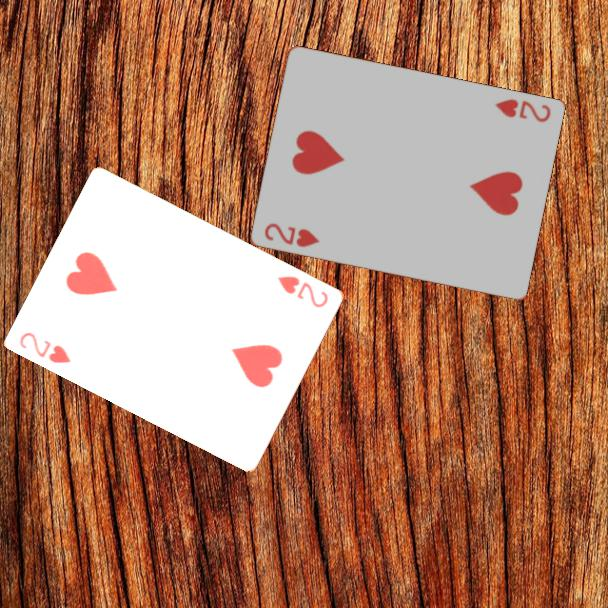h02: (274, 272, 332, 311), (16, 328, 74, 366), (491, 95, 553, 126), (260, 220, 322, 250)
